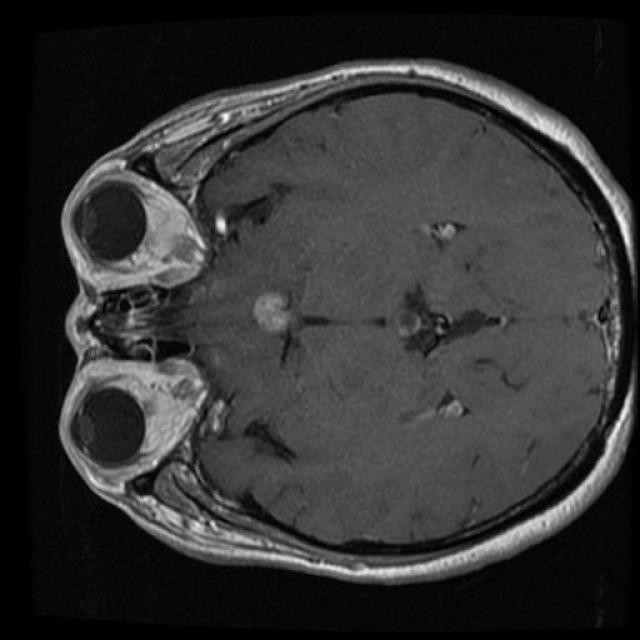Pituitary: (253, 293, 291, 333)
